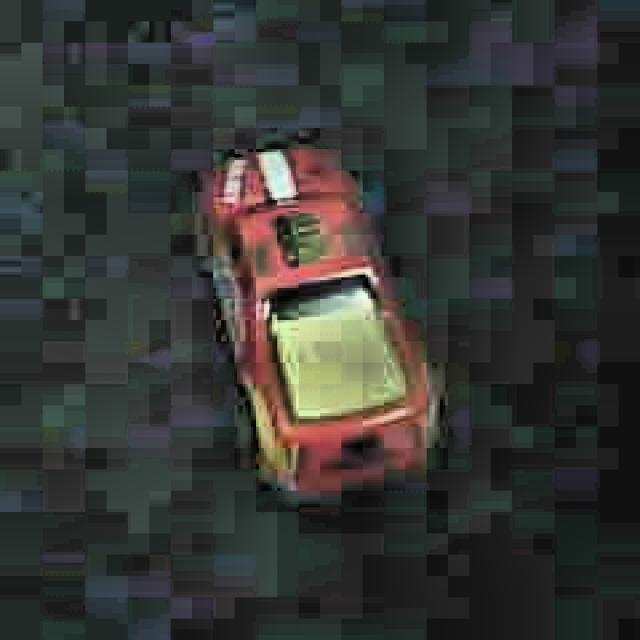car: (196, 138, 442, 502)
